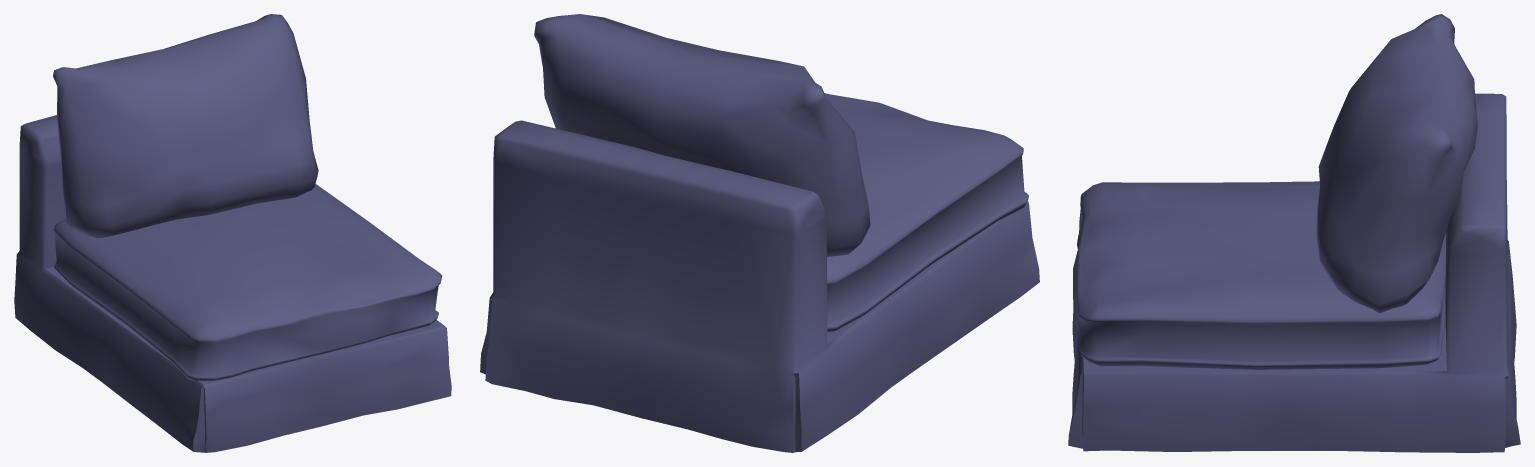
File: lounge_chair.dae
The picture shows the model from 3 angles, left to right: view 1: azimuth 30°, elevation 25°; view 2: azimuth 150°, elevation 25°; view 3: azimuth 270°, elevation 25°; orthographic projection. The views are drawn at different scales.
Visible parts, largest first — view 1: HSM0007; view 2: HSM0007; view 3: HSM0007.
Boxes of the visible parts, x1,y1,x2,y2 form: HSM0007: [14, 14, 451, 452]; HSM0007: [480, 14, 1039, 452]; HSM0007: [1068, 14, 1520, 452].
Bounding box in the file's own units: 0.736 × 0.9598 × 0.7318.
